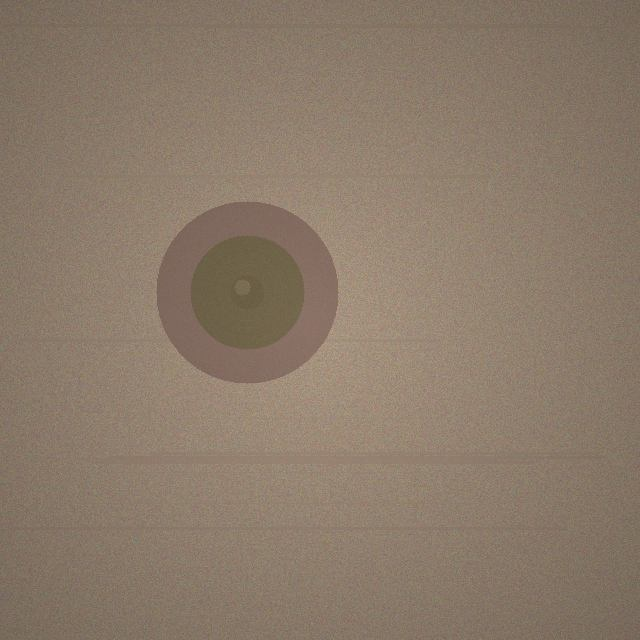good: (156, 201, 338, 383)
